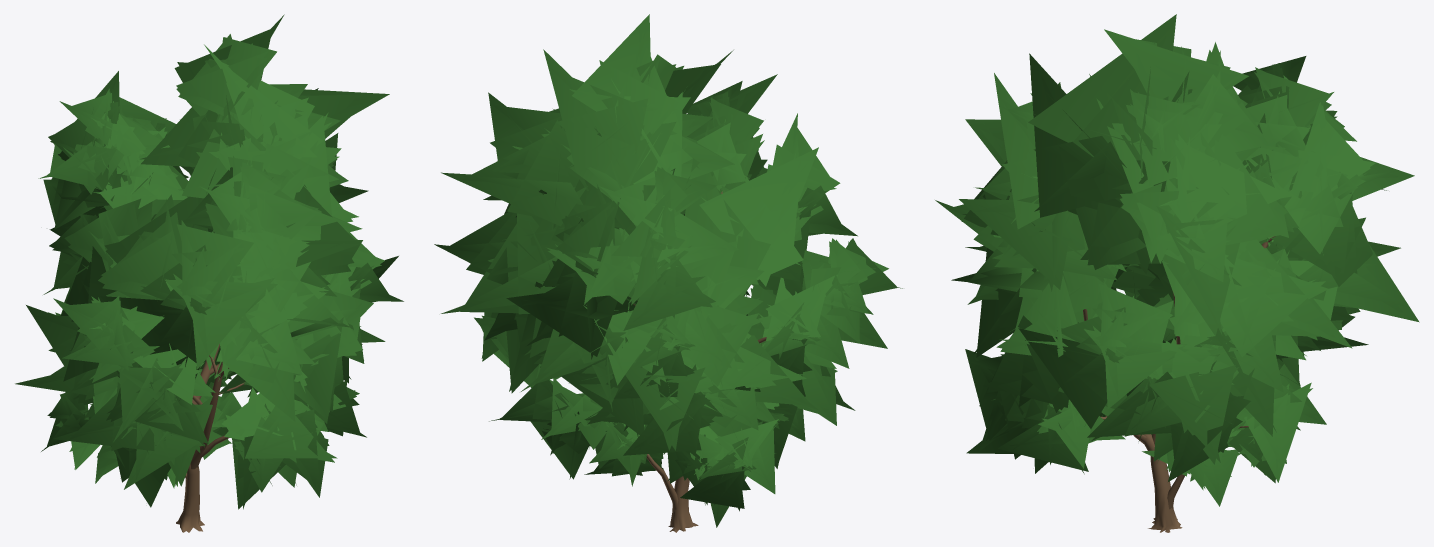
Rendered from Ginkgo_A.obj.
3 views of the same model, side by side, from view 1: azimuth 30°, elevation 25°; view 2: azimuth 150°, elevation 25°; view 3: azimuth 270°, elevation 25° (orthographic). The views are drawn at different scales.
Parts seen in each view (by area): view 1: Leaves, Trunk; view 2: Leaves, Trunk; view 3: Leaves, Trunk.
Boxes of the visible parts, box(x1,y1,x2,y2) form: Leaves: box(15, 14, 403, 509); Trunk: box(176, 344, 244, 532); Leaves: box(434, 14, 902, 527); Trunk: box(633, 191, 766, 532); Leaves: box(935, 14, 1419, 506); Trunk: box(1083, 236, 1275, 532).
Bounding box in the file's own units: 66.17 × 78.06 × 64.69.
